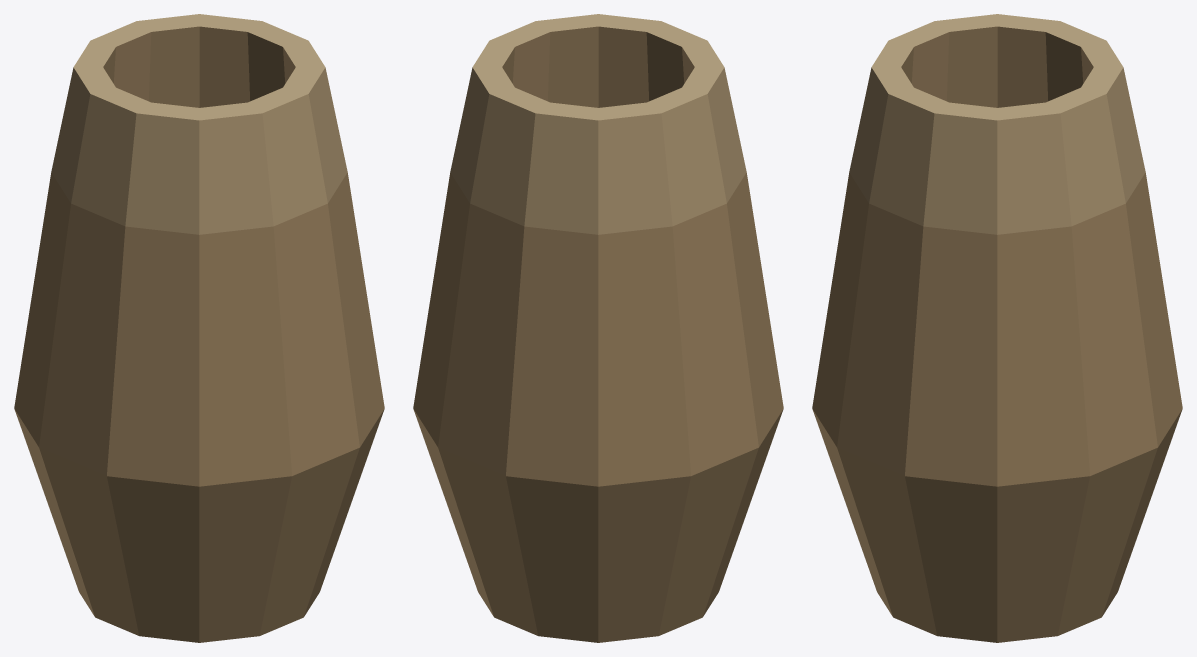
Rendered from urn-tall.glb.
3 views of the same model, side by side, from view 1: azimuth 30°, elevation 25°; view 2: azimuth 150°, elevation 25°; view 3: azimuth 270°, elevation 25° (orthographic).
Visible parts, largest first — view 1: urn-tall__body; view 2: urn-tall__body; view 3: urn-tall__body.
Boxes of the visible parts, box(x1,y1,x2,y2) form: urn-tall__body: box(14, 14, 384, 642); urn-tall__body: box(413, 14, 783, 642); urn-tall__body: box(812, 14, 1182, 642).
Size of the model in its own units: 0.8 by 1.25 by 0.8.
